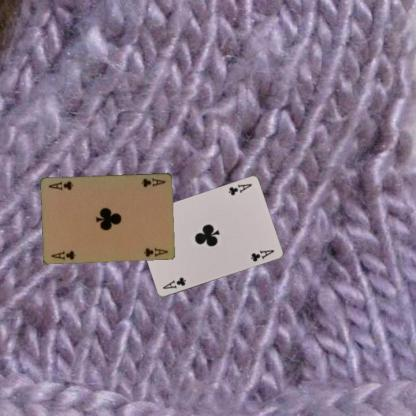Ac: (48, 247, 77, 262), (160, 275, 187, 291), (225, 181, 252, 197), (139, 174, 168, 188)
